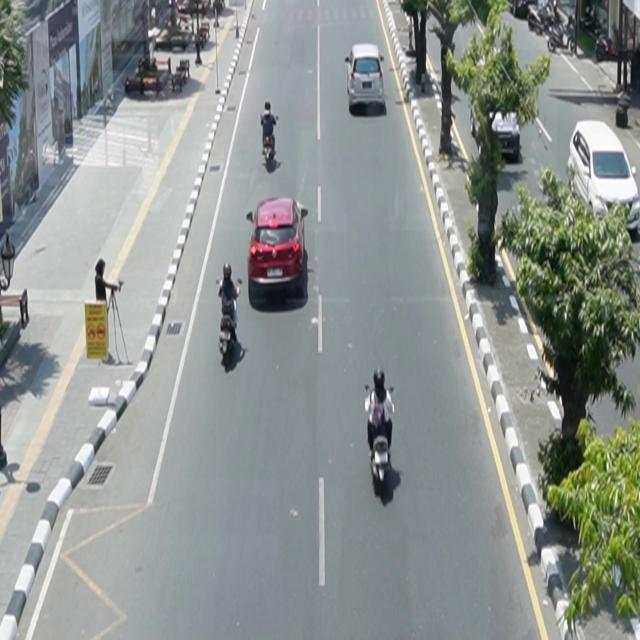car: (568, 120, 640, 235), (248, 197, 310, 295), (345, 44, 386, 108)
